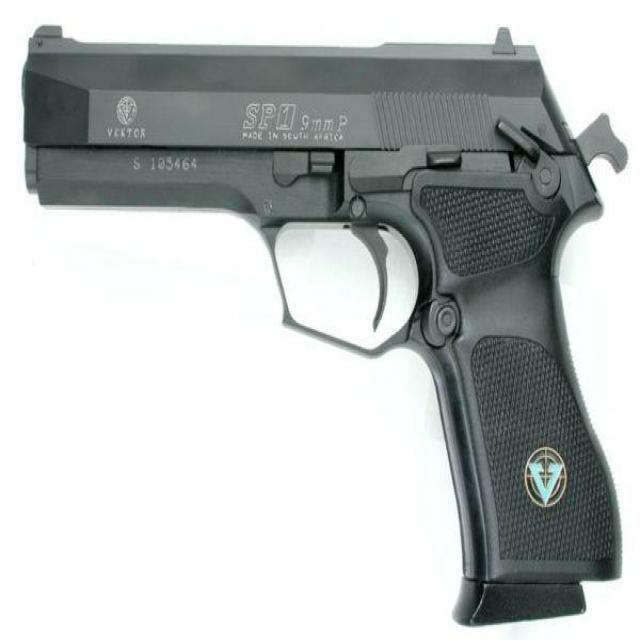pistol: (16, 19, 629, 626)
